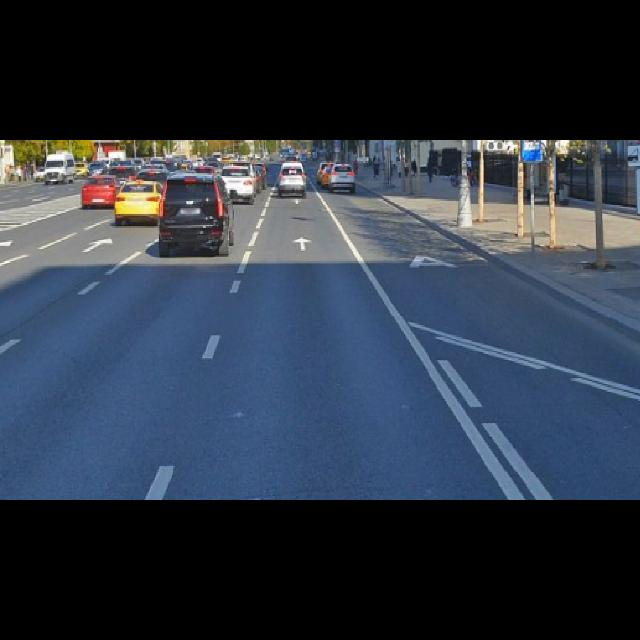road: (0, 183, 640, 500)
